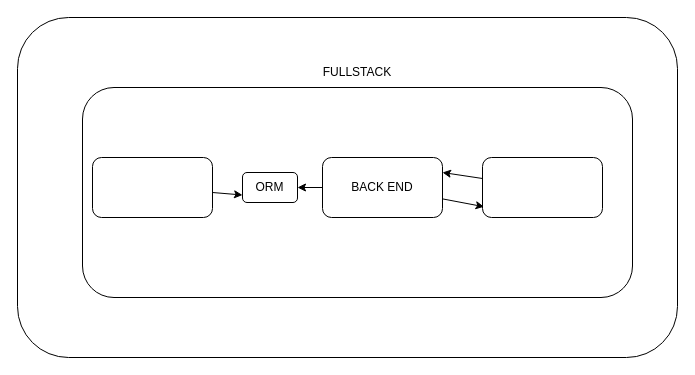
The diagram is 695 pixels wide and 375 high, and some of its shapes have lost their labels. The centre of each missing label's shape, as x and y in pixels:
DATABASE: point 152,187
FRONT END: point 542,187
